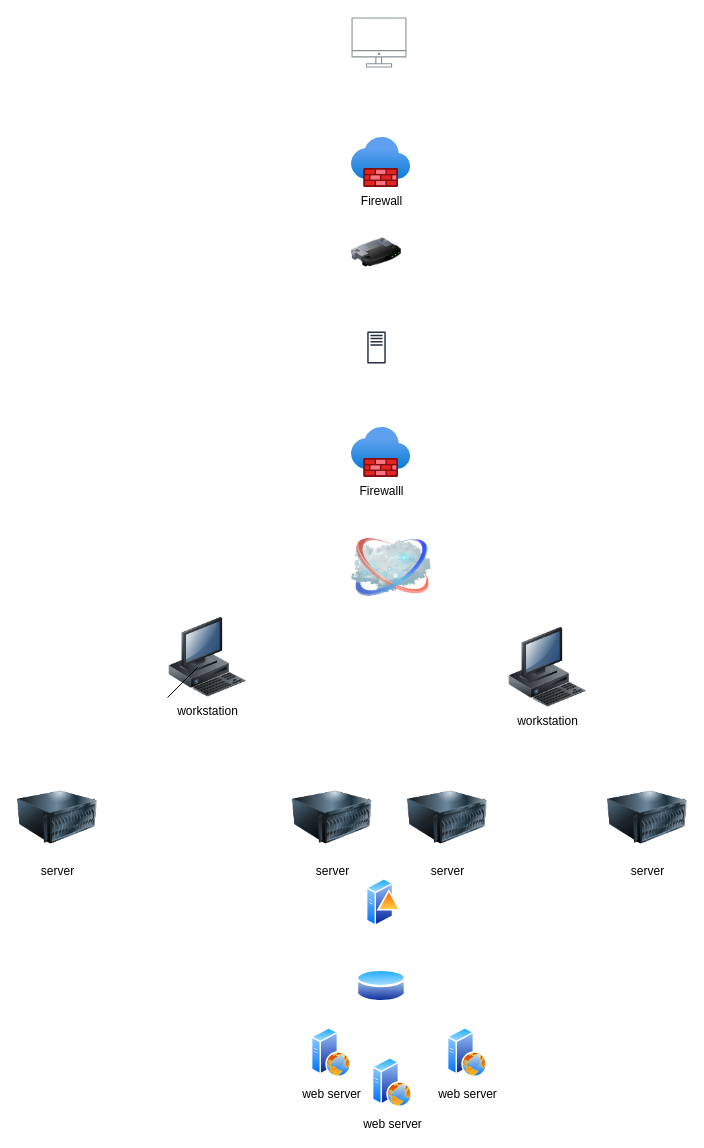
Some shapes in this 704 by 1148 pixel diagram are drawn without their labels. The shapes that lost their labels are listed below. From the top down, each one's centre as x and y in pixels, then its label:
At [378,42]: "desktop".
At [376,252]: "Router".
At [376,347]: "Traditional server".
At [391,567]: "LAN".
At [383,902]: "domain controller".
At [381,985]: "database".
